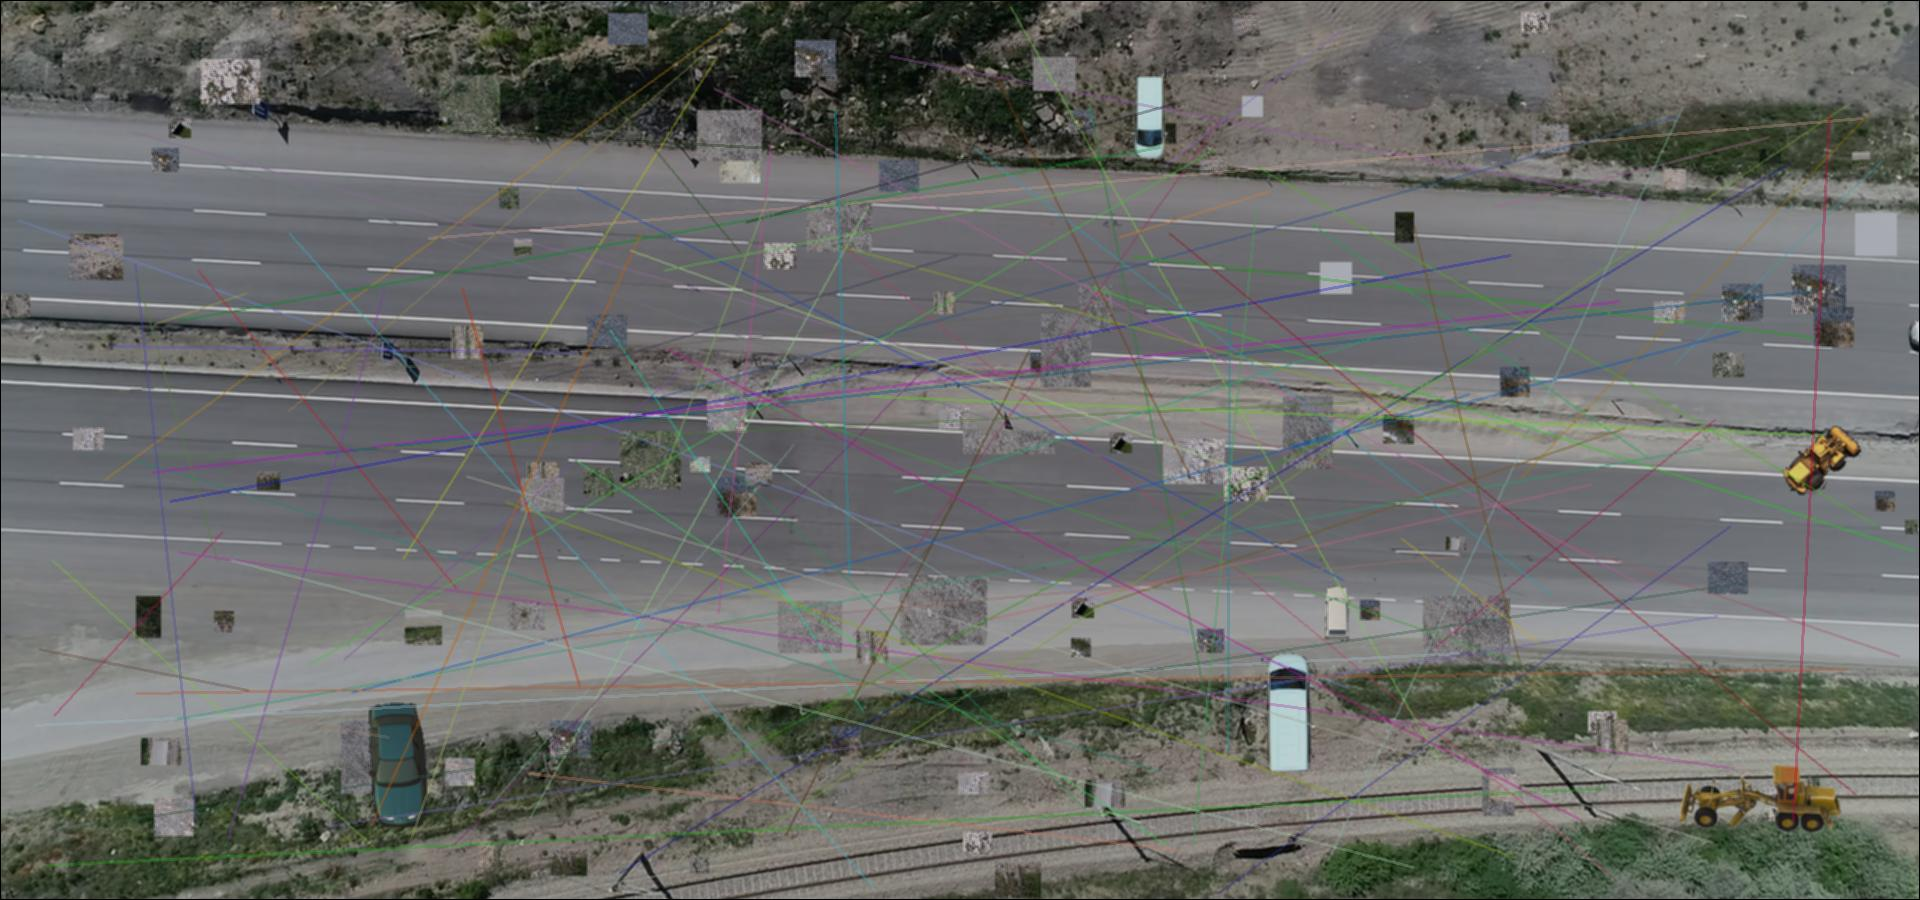arac: (1679, 760, 1842, 838), (369, 703, 427, 827), (1261, 651, 1315, 773), (1782, 422, 1869, 497), (1131, 73, 1171, 160), (1324, 587, 1351, 640)
